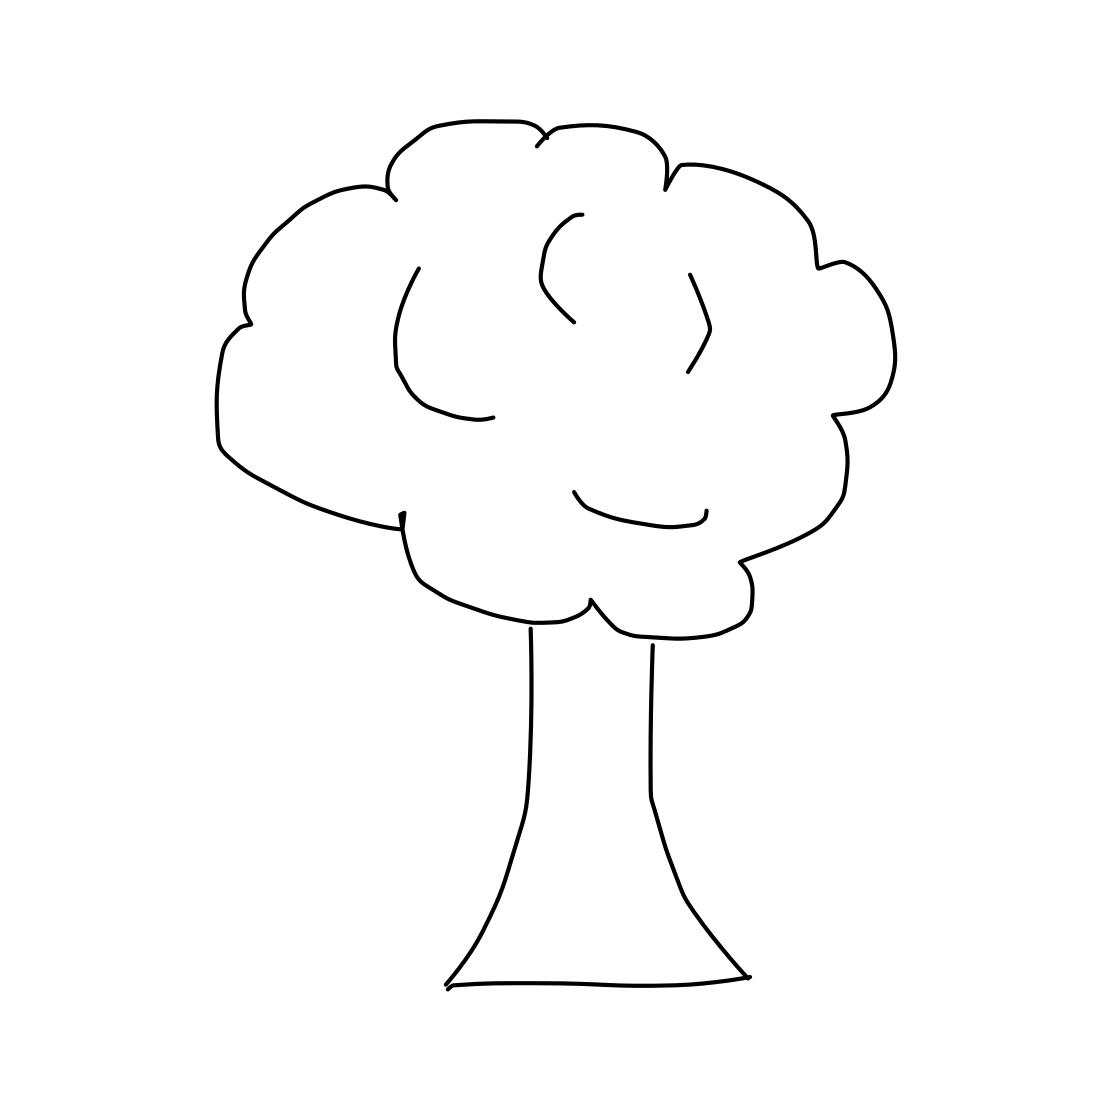Tree: (177, 72, 919, 1013)
